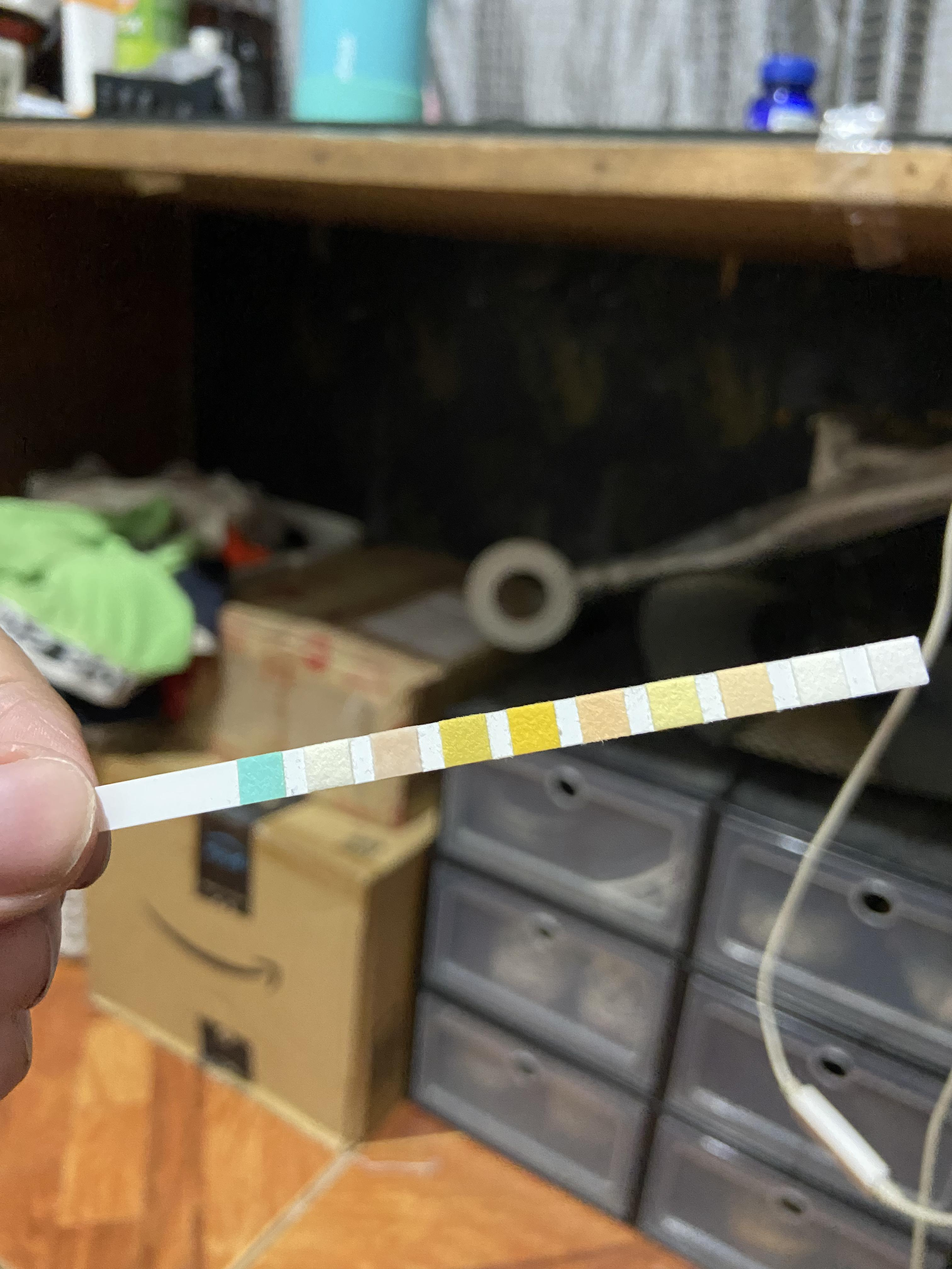Bilirubin: (307, 746, 349, 784)
Blood: (512, 708, 555, 749)
Glucose: (240, 759, 282, 798)
Ketone: (373, 733, 418, 772)
Leukocytes: (874, 643, 919, 685)
Nitrite: (799, 656, 842, 699)
Protein: (655, 682, 695, 724)
SpGravity: (446, 720, 486, 761)
Urobilinogen: (728, 668, 766, 712)
pH: (583, 695, 624, 737)
strip: (99, 636, 931, 832)
